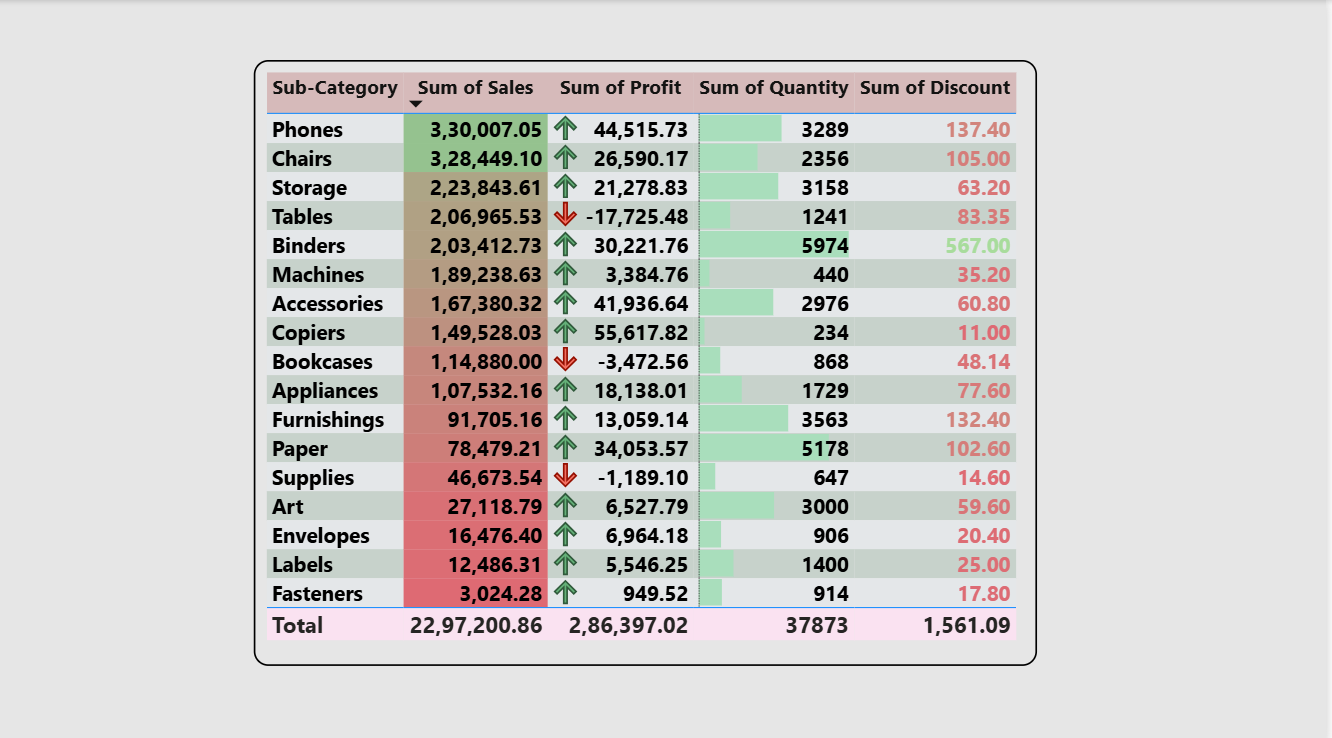

This screenshot's page, from the dashboard's own definition file:
{"tool":"powerbi","page":{"name":"Q8.","canvas":[1280,720],"ordinal":7},"visuals":[{"type":"tableEx","fields":{"Values":["Orders.Sub-Category","Sum(Orders.Sales)","Sum(Orders.Profit)","Sum(Orders.Quantity)","Sum(Orders.Discount)"]},"box":[244.6,57.5,755.7,584.5],"z":0}]}

Visuals, with their boxes in screenshot pixels (x1, y1, x2, y2), scaled from the page's 1280x720 canvas onto the 1332x738 screenshot:
tableEx - Orders.Sub-Category x Sum(Orders.Sales): pyautogui.locateOnScreen(255, 59, 1041, 658)
